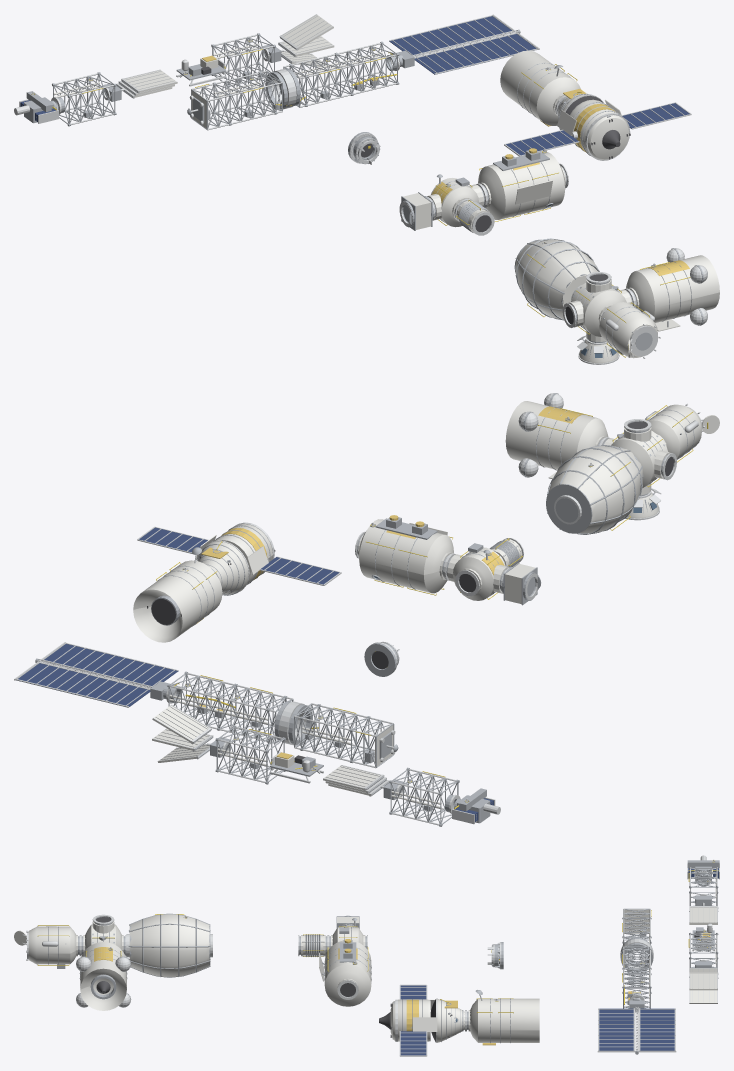
The model's file is orbital-station-and-docking-bays-connector-cases-eb01e3c5__24584.glb.
3 views of the same model, one above another, from view 1: azimuth 30°, elevation 25°; view 2: azimuth 150°, elevation 25°; view 3: azimuth 270°, elevation 25° (orthographic). The views are drawn at different scales.
Parts seen in each view (by area): view 1: 016-solar-array-wing-deployed/3, 008-service-module-tankage/0, 007-inflatable-habitat/0, 002-laboratory-module-compact/0, 011-logistics-module/0, 012-crew-ferry-capsule/0, 004-hub-six-port/0, 016-solar-array-wing-deployed/1, 012-crew-ferry-capsule/6, 006-airlock-module/0, 022-truss-bay-segment/1, 017-truss-bay-segment/1 (+17 smaller); view 2: 016-solar-array-wing-deployed/3, 002-laboratory-module-compact/0, 007-inflatable-habitat/0, 011-logistics-module/0, 008-service-module-tankage/0, 007-inflatable-habitat/1, 012-crew-ferry-capsule/0, 016-solar-array-wing-deployed/1, 012-crew-ferry-capsule/6, 006-airlock-module/0, 019-truss-bay-segment/1, 004-hub-six-port/0 (+15 smaller); view 3: 007-inflatable-habitat/0, 011-logistics-module/0, 016-solar-array-wing-deployed/3, 002-laboratory-module-compact/0, 012-crew-ferry-capsule/0, 008-service-module-tankage/0, 016-solar-array-wing-deployed/1, 006-airlock-module/0, 007-inflatable-habitat/1, 012-crew-ferry-capsule/6, 012-crew-ferry-capsule/2, 004-hub-six-port/0 (+18 smaller).
Boxes of the visible parts, x1,y1,x2,y2 form: 016-solar-array-wing-deployed/3: (389, 16, 536, 74); 008-service-module-tankage/0: (626, 255, 719, 331); 007-inflatable-habitat/0: (515, 239, 598, 319); 002-laboratory-module-compact/0: (478, 152, 566, 219); 011-logistics-module/0: (500, 50, 580, 125); 012-crew-ferry-capsule/0: (557, 94, 629, 159); 004-hub-six-port/0: (568, 279, 631, 341); 016-solar-array-wing-deployed/1: (389, 14, 539, 74); 012-crew-ferry-capsule/6: (506, 103, 689, 155); 006-airlock-module/0: (599, 302, 657, 358); 022-truss-bay-segment/1: (52, 72, 116, 126); 017-truss-bay-segment/1: (212, 71, 277, 125); 016-solar-array-wing-deployed/3: (16, 644, 178, 707); 002-laboratory-module-compact/0: (358, 519, 453, 593); 007-inflatable-habitat/0: (548, 446, 642, 533); 011-logistics-module/0: (133, 560, 222, 642); 008-service-module-tankage/0: (505, 401, 608, 478); 007-inflatable-habitat/1: (546, 445, 643, 534); 012-crew-ferry-capsule/0: (196, 524, 272, 594); 016-solar-array-wing-deployed/1: (14, 642, 178, 707); 012-crew-ferry-capsule/6: (139, 527, 339, 584); 006-airlock-module/0: (648, 404, 702, 459); 019-truss-bay-segment/1: (215, 725, 285, 784); 004-hub-six-port/0: (604, 427, 670, 495); 007-inflatable-habitat/0: (129, 914, 209, 977); 011-logistics-module/0: (468, 998, 539, 1042); 016-solar-array-wing-deployed/3: (599, 1008, 674, 1050); 002-laboratory-module-compact/0: (319, 940, 371, 1006); 012-crew-ferry-capsule/0: (390, 998, 464, 1042); 008-service-module-tankage/0: (80, 942, 126, 1010); 016-solar-array-wing-deployed/1: (597, 994, 676, 1052); 006-airlock-module/0: (28, 926, 77, 964); 007-inflatable-habitat/1: (128, 913, 210, 977); 012-crew-ferry-capsule/6: (400, 985, 426, 1055); 012-crew-ferry-capsule/2: (395, 984, 465, 1056); 004-hub-six-port/0: (83, 921, 123, 951).
Size of the model in its own units: 43.55 by 7.16 by 63.52.
